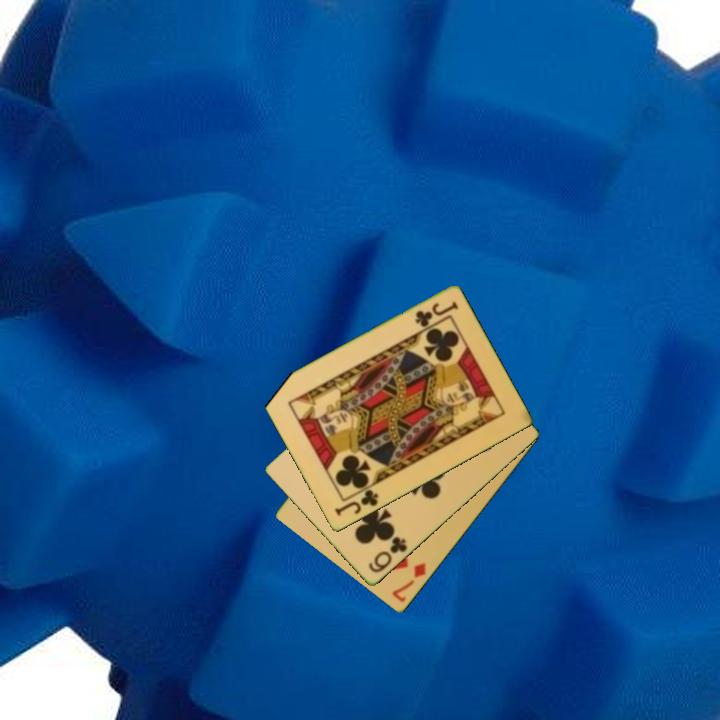6c: (365, 533, 410, 576)
7d: (389, 559, 429, 605)
Jc: (331, 482, 381, 519), (411, 298, 461, 330)
